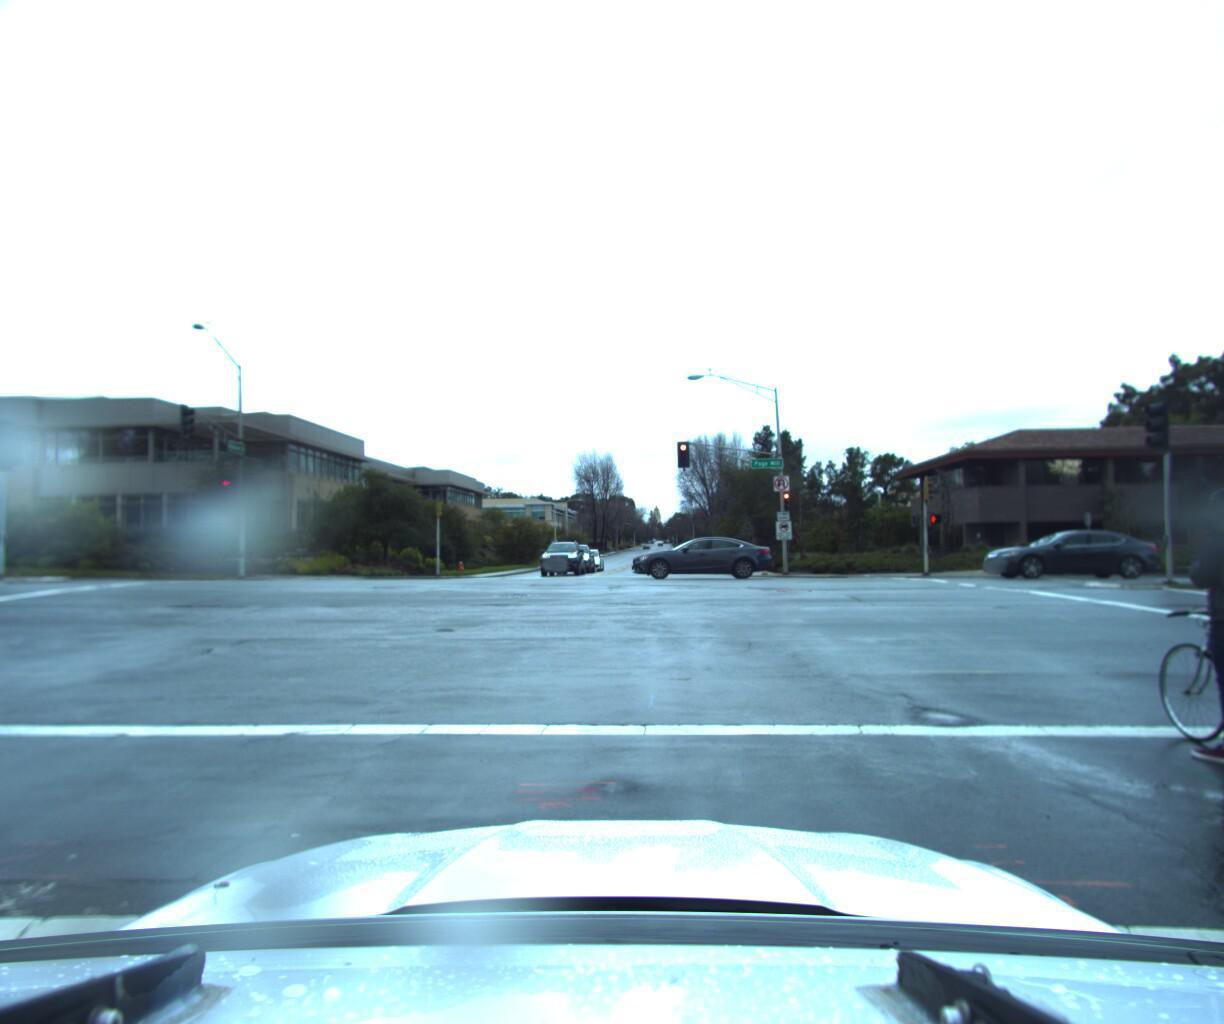bicycle: (1102, 466, 1224, 799)
car: (969, 519, 1162, 576), (631, 526, 774, 577), (537, 538, 588, 575), (553, 541, 595, 574), (570, 545, 604, 569), (0, 517, 4, 594)
